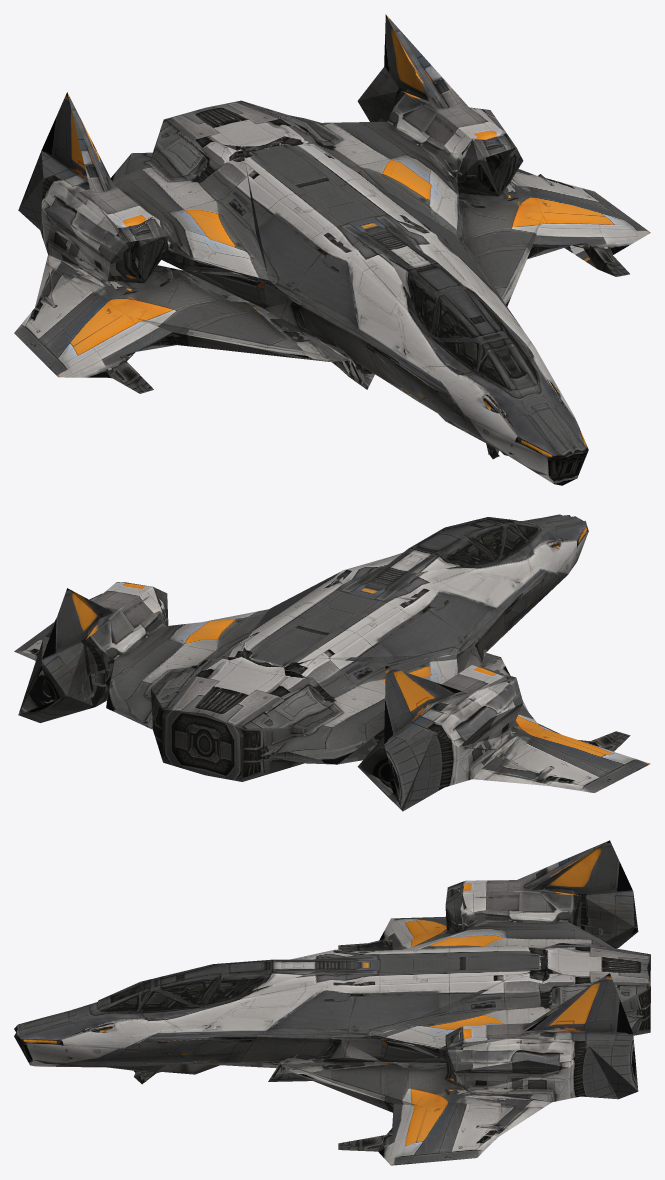
The model's file is fighter-low.glb.
3 renders of one model, top to bottom at view 1: azimuth 30°, elevation 25°; view 2: azimuth 150°, elevation 25°; view 3: azimuth 270°, elevation 25°, orthographic. The views are drawn at different scales.
Parts seen in each view (by area): view 1: Low; view 2: Low; view 3: Low.
Boxes of the visible parts, box(x1,y1,x2,y2) form: Low: box(14, 14, 650, 485); Low: box(14, 514, 650, 811); Low: box(14, 840, 650, 1165).
Size of the model in its own units: 1.63 by 0.5366 by 1.77.
1 material, 1 textured.
